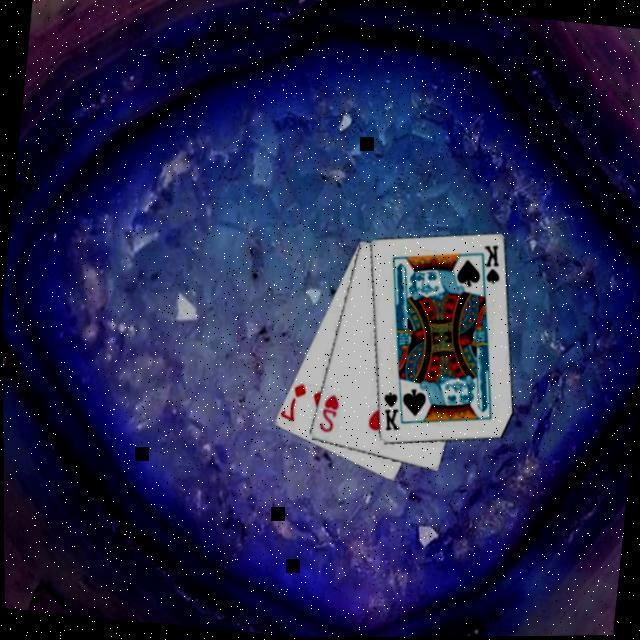2H: (316, 391, 342, 437)
7D: (279, 379, 310, 426)
KS: (474, 243, 506, 294), (377, 389, 405, 435)
